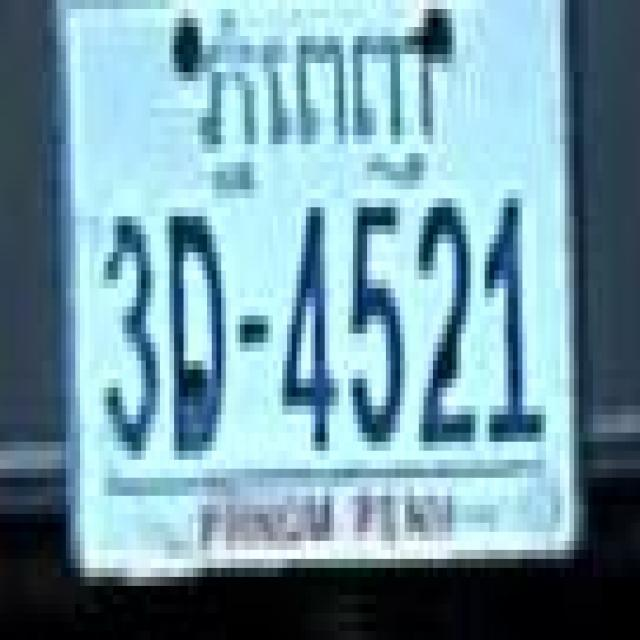Phnom_Penh: (202, 27, 438, 200)
